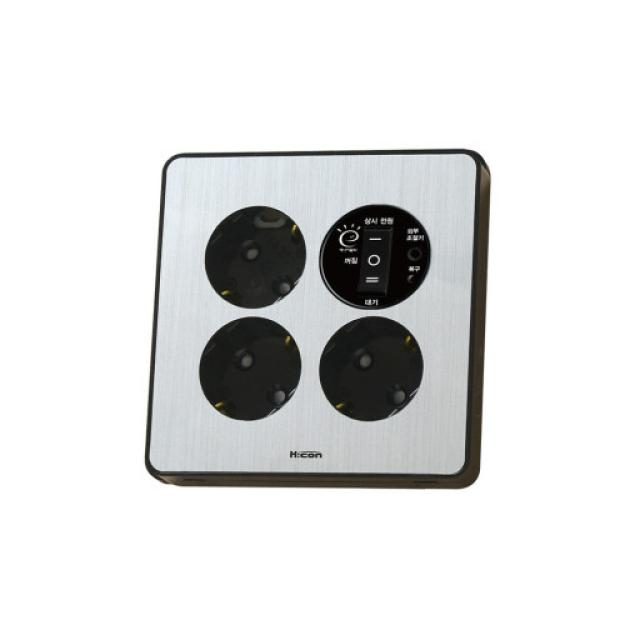typeb: (113, 103, 531, 567)
